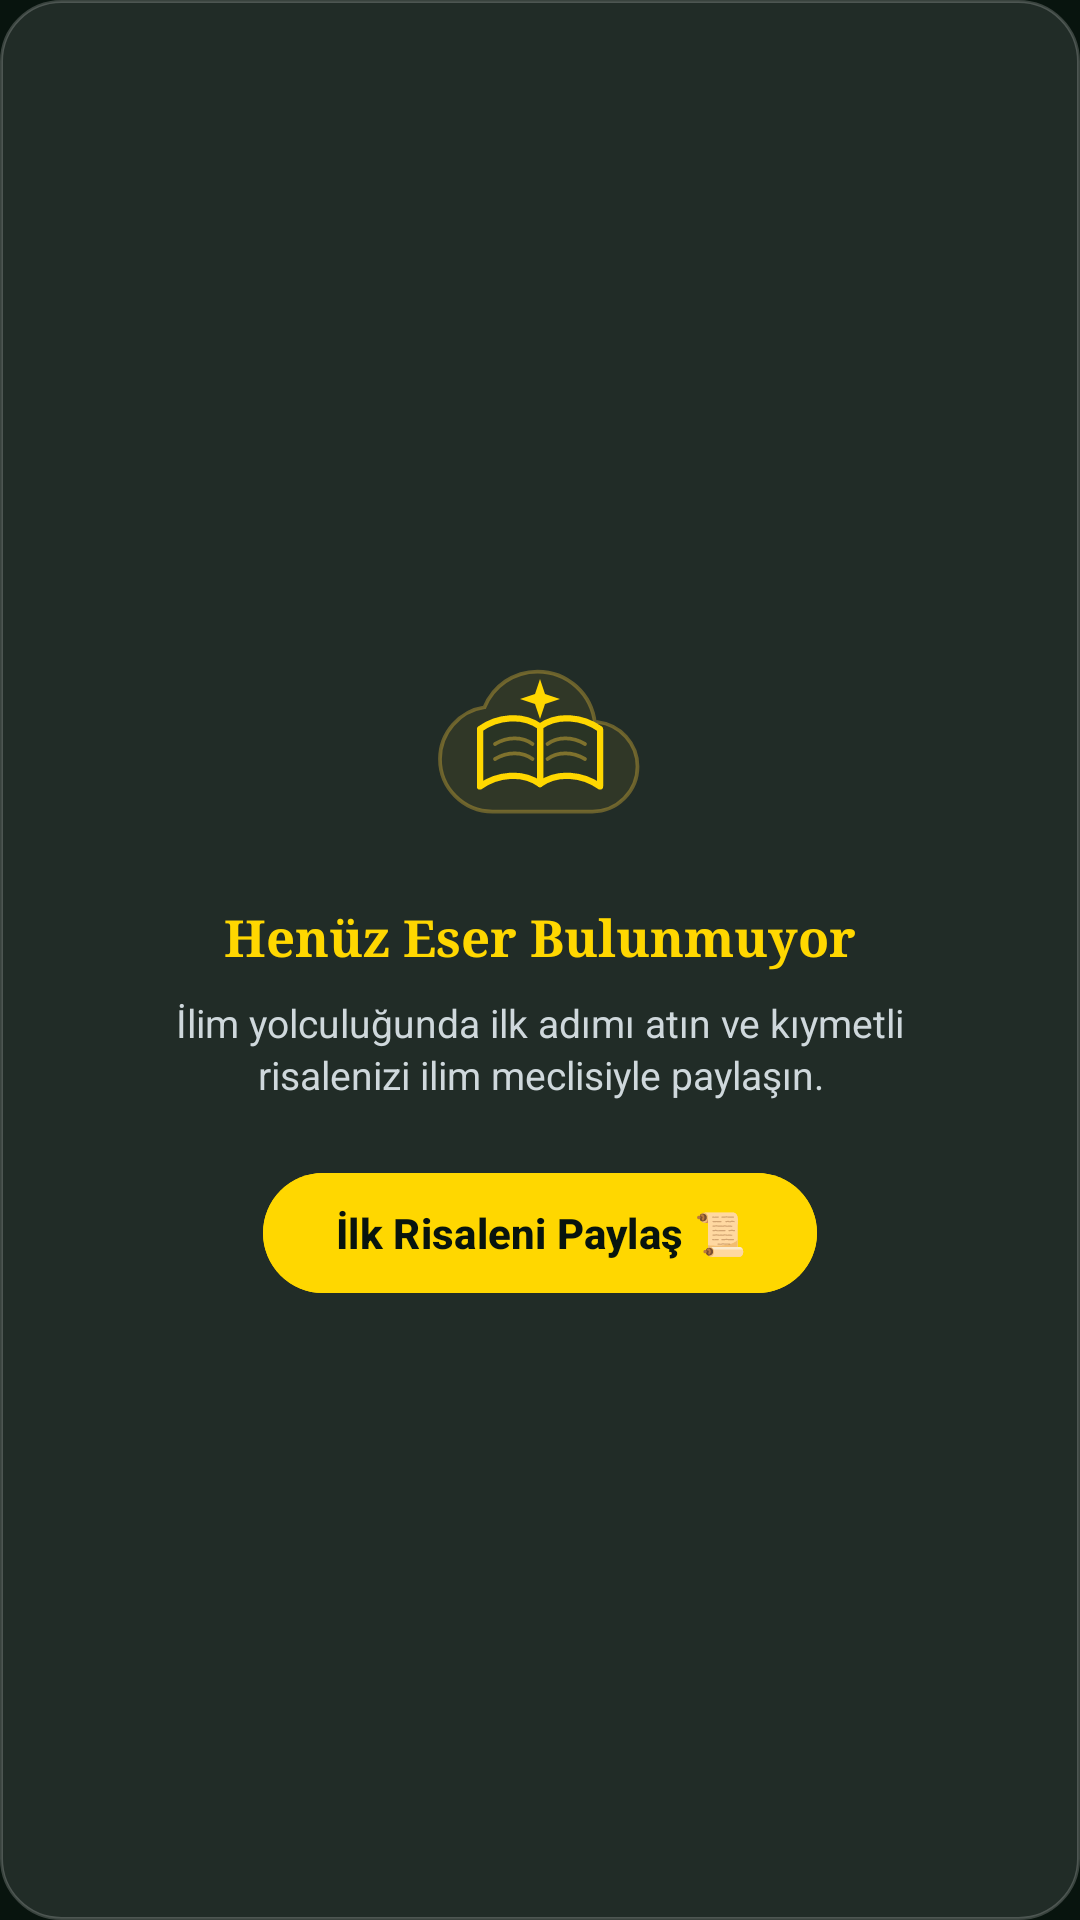

Named icons in this screenshot (1080 x 1920) and their centers, (x,y):
empty academic library: (539,741)
